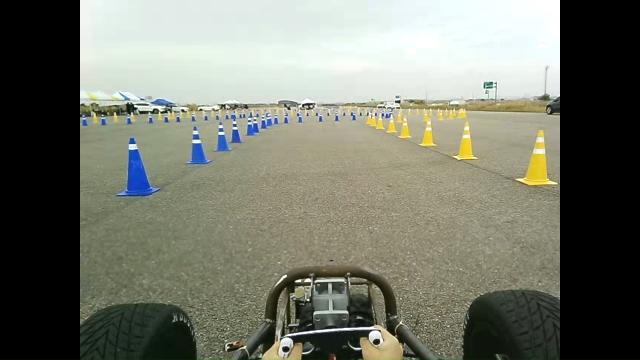blue cone: (116, 137, 160, 197), (182, 122, 213, 167), (213, 119, 232, 155), (228, 115, 244, 145)
yellow cone: (515, 129, 557, 186), (452, 121, 478, 160), (419, 120, 437, 146), (398, 117, 412, 138), (386, 116, 396, 133), (366, 112, 376, 127), (375, 116, 385, 130), (370, 116, 377, 127)
